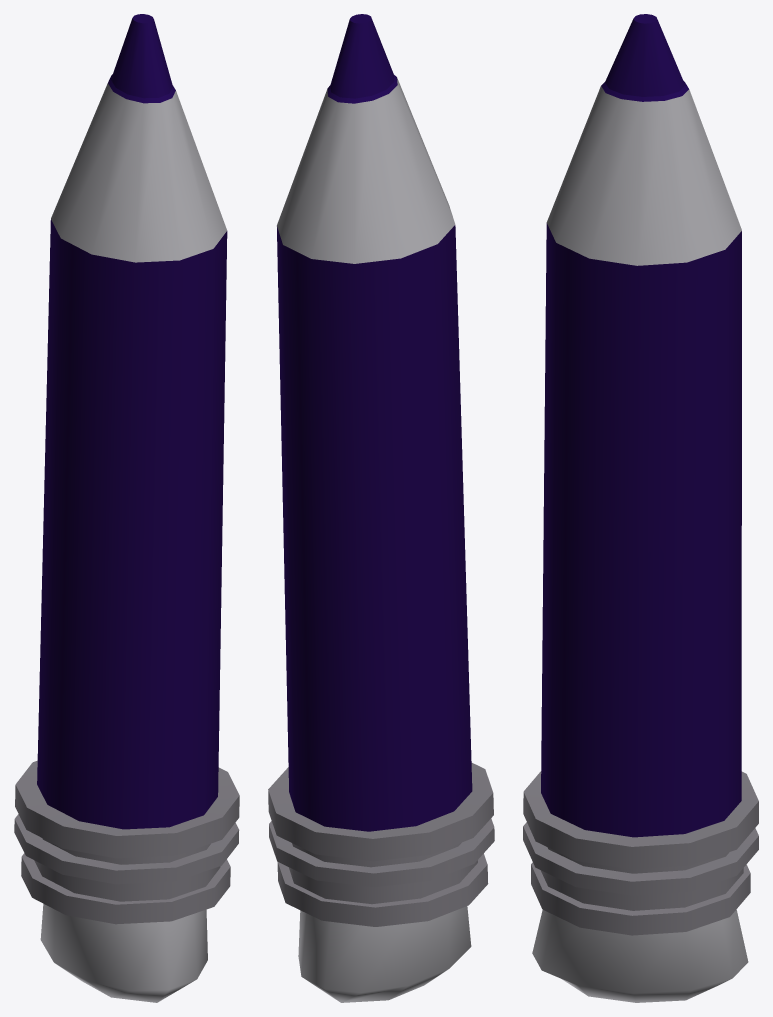
File: Pencil_03.fbx
3 renders of one model, left to right at view 1: azimuth 30°, elevation 25°; view 2: azimuth 150°, elevation 25°; view 3: azimuth 270°, elevation 25°, orthographic. The views are drawn at different scales.
Parts seen in each view (by area): view 1: Pencil_03; view 2: Pencil_03; view 3: Pencil_03.
Boxes of the visible parts, x1,y1,x2,y2 form: Pencil_03: (14, 14, 239, 1002); Pencil_03: (268, 14, 494, 1002); Pencil_03: (523, 14, 758, 1002).
Bounding box in the file's own units: 4.72 × 4.85 × 22.13.
